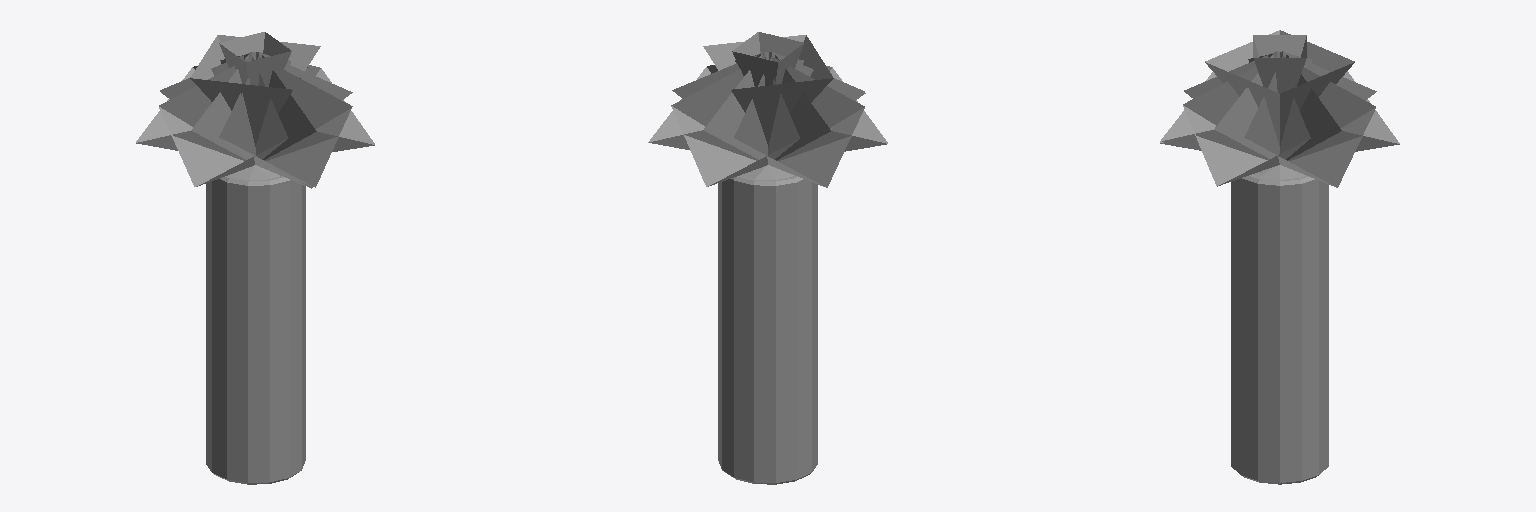
File: cylinder_spikes.obj
3 renders of one model, left to right at view 1: azimuth 30°, elevation 25°; view 2: azimuth 150°, elevation 25°; view 3: azimuth 270°, elevation 25°, orthographic.
Visible parts, largest first — view 1: Spikes.001; view 2: Spikes.001; view 3: Spikes.001.
Boxes of the visible parts, x1,y1,x2,y2 form: Spikes.001: [136, 32, 374, 484]; Spikes.001: [648, 32, 887, 484]; Spikes.001: [1160, 30, 1399, 484].
Size of the model in its own units: 0.629 by 1.38 by 0.7203.